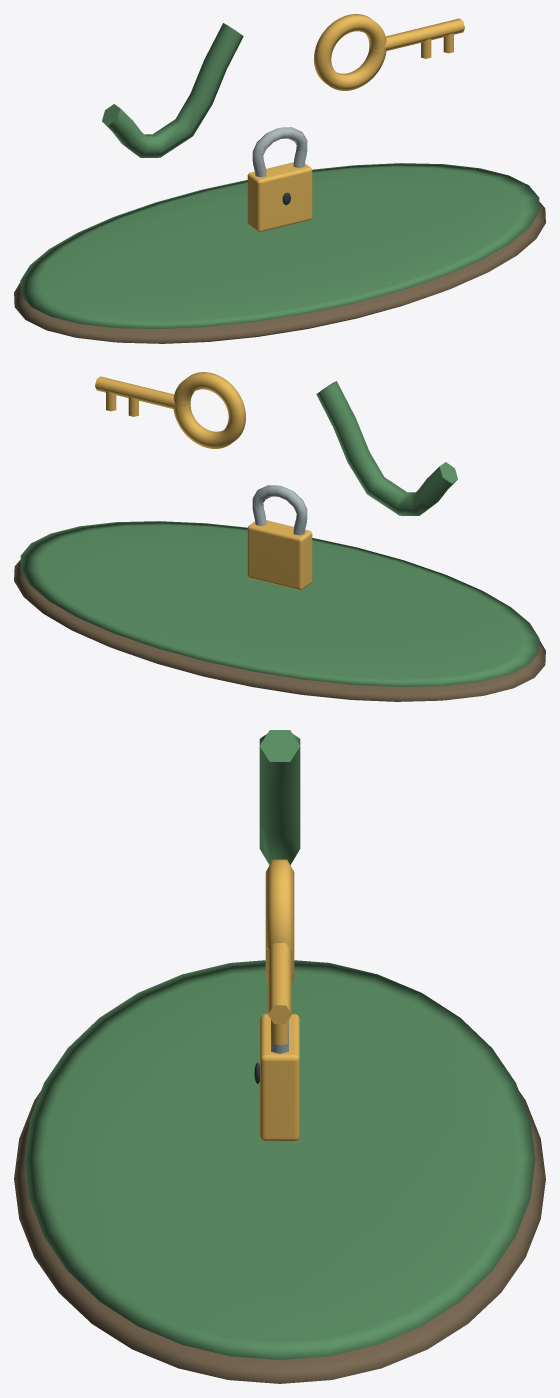
The model's file is complete-first-permission-by-key.glb.
3 views of the same model, one above another, from view 1: azimuth 30°, elevation 25°; view 2: azimuth 150°, elevation 25°; view 3: azimuth 270°, elevation 25° (orthographic). The views are drawn at different scales.
Visible parts, largest first — view 1: complete-first-permission-by-key_surface_01, complete-first-permission-by-key_surface_00, complete-first-permission-by-key_surface_02, complete-first-permission-by-key_surface_03; view 2: complete-first-permission-by-key_surface_01, complete-first-permission-by-key_surface_00, complete-first-permission-by-key_surface_02, complete-first-permission-by-key_surface_03; view 3: complete-first-permission-by-key_surface_01, complete-first-permission-by-key_surface_00, complete-first-permission-by-key_surface_02.
Part boxes in pixels (x1,y1,x2,y2): complete-first-permission-by-key_surface_01: (20, 23, 539, 328); complete-first-permission-by-key_surface_00: (14, 202, 545, 343); complete-first-permission-by-key_surface_02: (247, 14, 464, 232); complete-first-permission-by-key_surface_03: (252, 127, 307, 177); complete-first-permission-by-key_surface_01: (20, 381, 539, 686); complete-first-permission-by-key_surface_00: (14, 560, 545, 701); complete-first-permission-by-key_surface_02: (95, 372, 312, 590); complete-first-permission-by-key_surface_03: (252, 485, 307, 535); complete-first-permission-by-key_surface_01: (24, 730, 535, 1359); complete-first-permission-by-key_surface_00: (14, 1091, 545, 1383); complete-first-permission-by-key_surface_02: (260, 859, 299, 1141).
Size of the model in its own units: 4.56 by 2.23 by 2.5.
